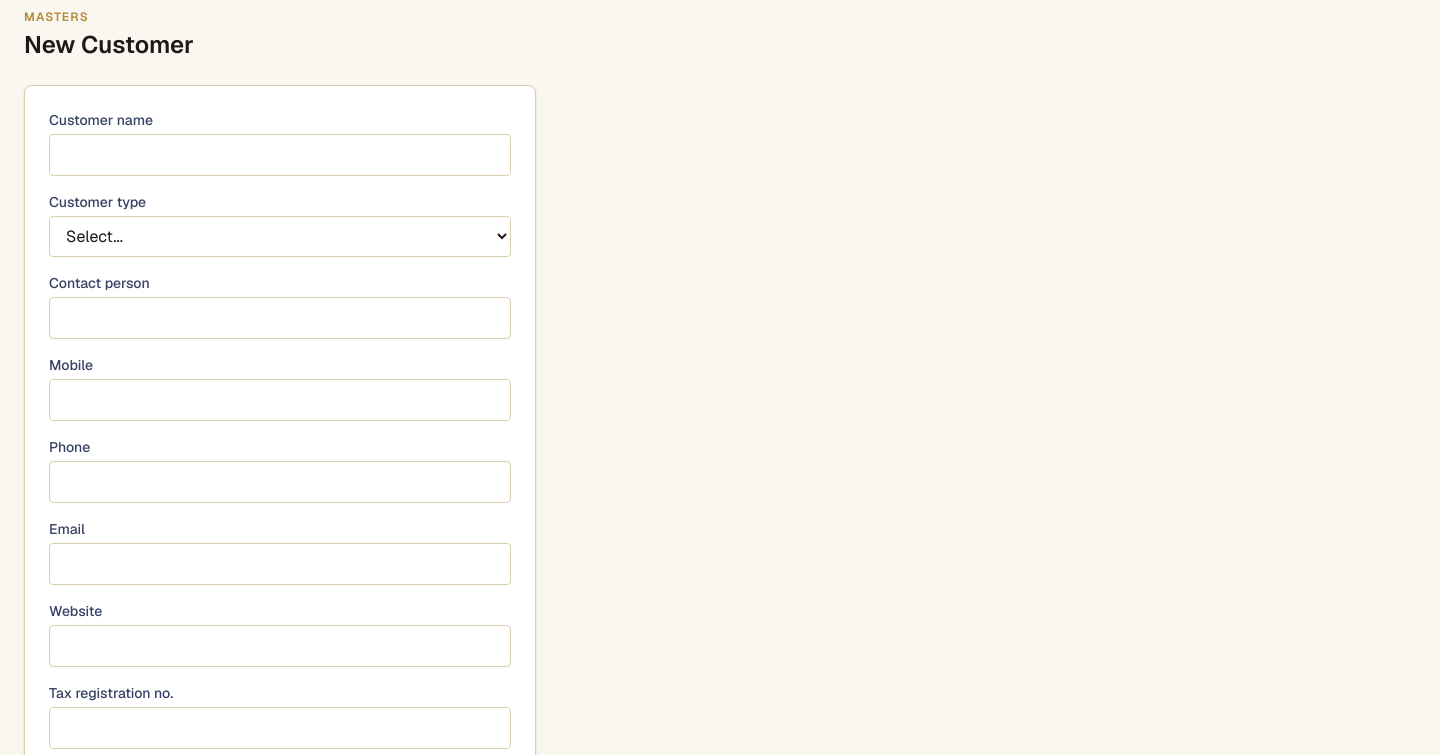
Test: Creating a customer through the dedicated New Customer page › shows an error and does not navigate when the create request fails
Type "Acme Co" into the field labelled "Customer name" at (280, 155), box [49,134,511,176]
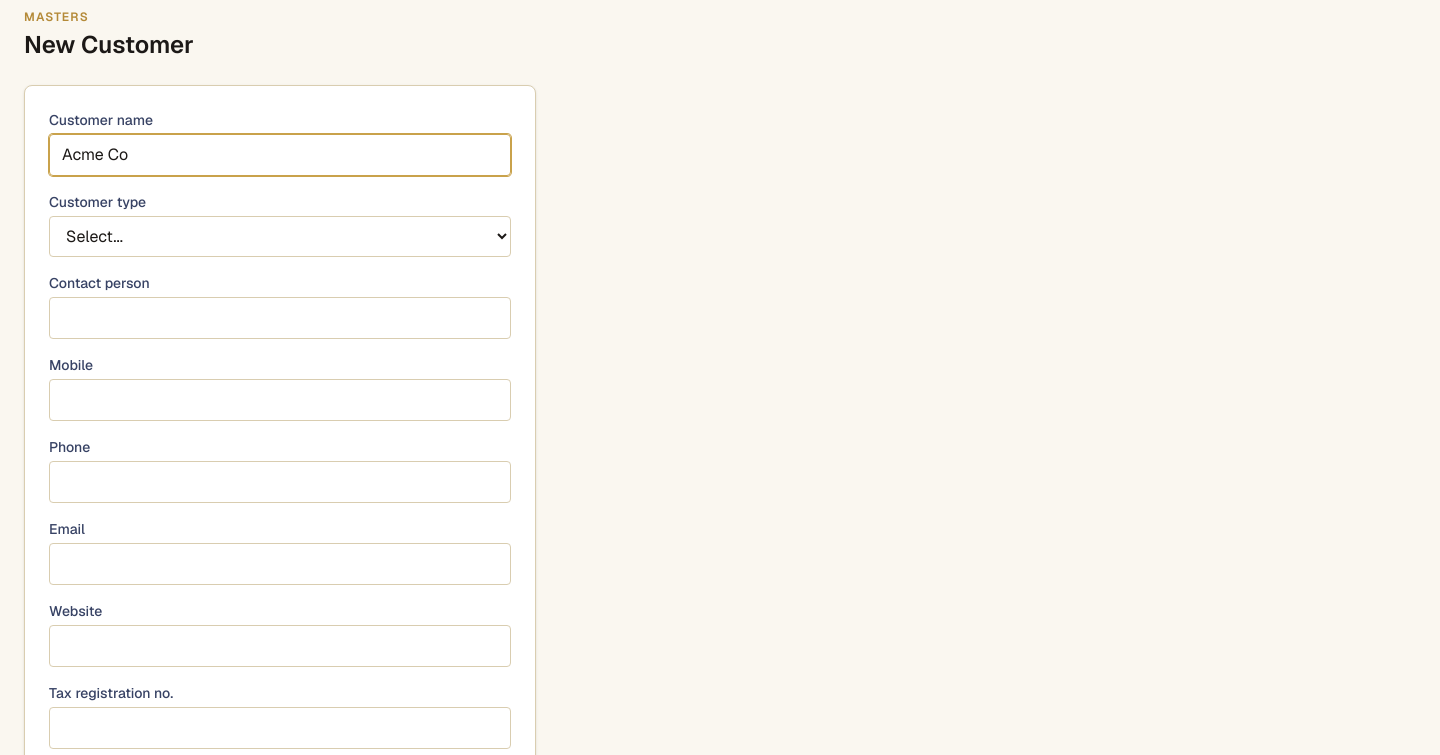
Select "Company" in the dropdown labelled "Customer type" at (280, 236), box [49,216,511,257]
(page scrolled)
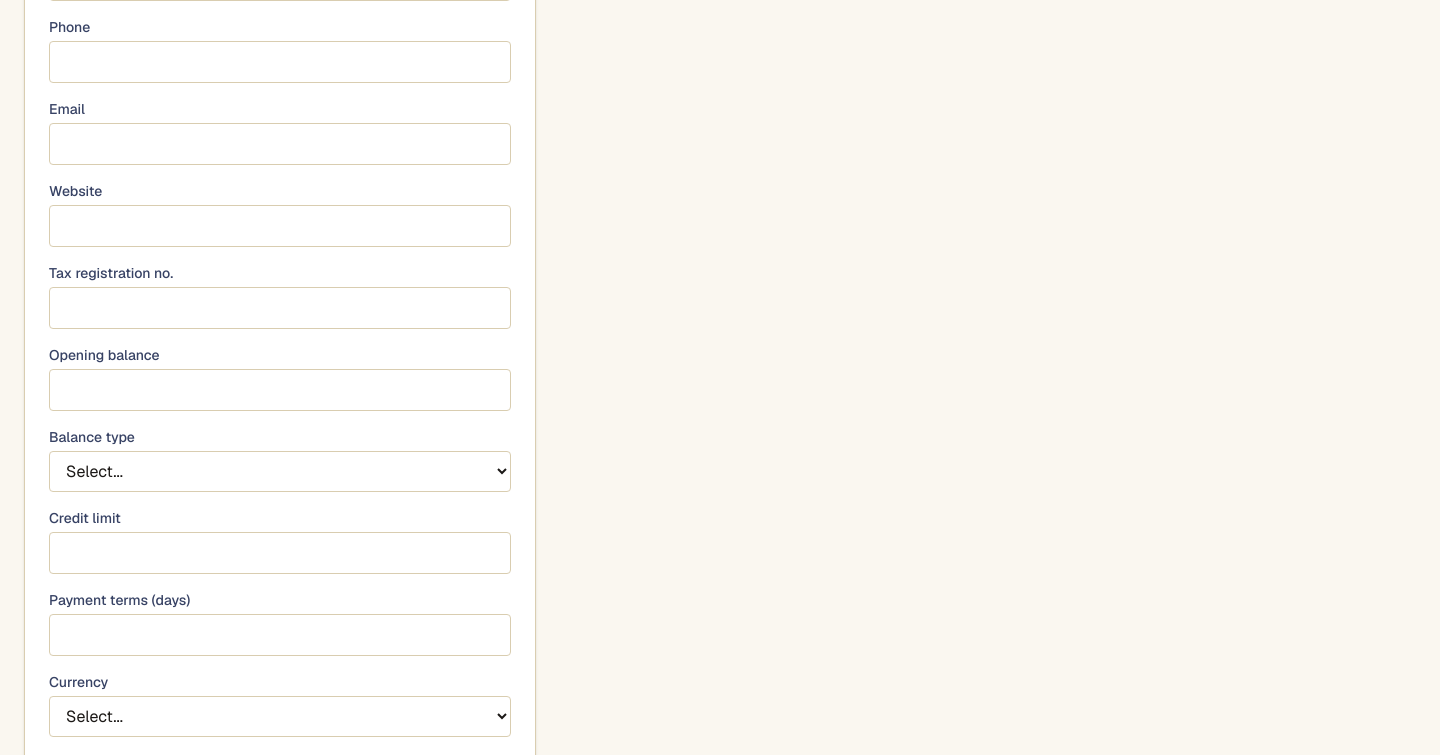
Type "100.00" into the field labelled "Opening balance" at (280, 390), box [49,369,511,411]
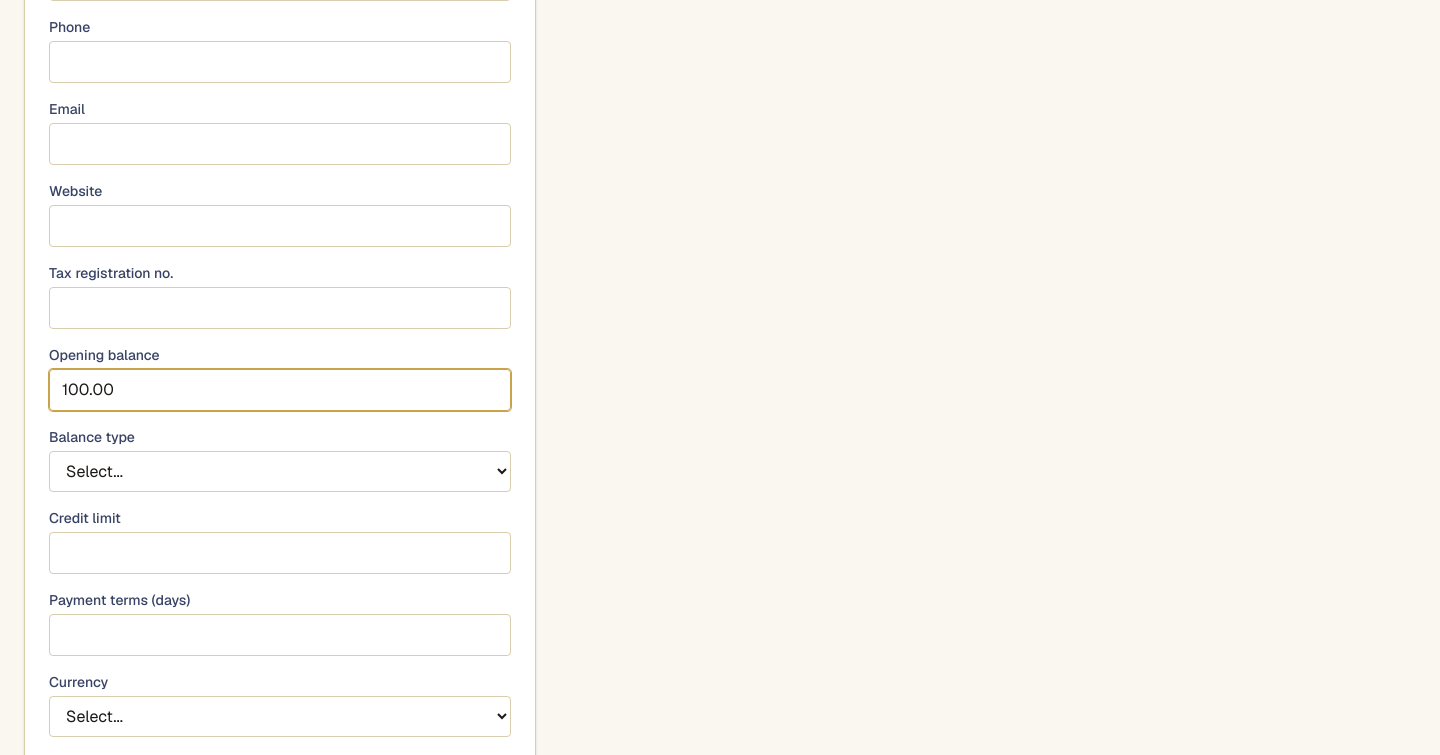
Select "Debit" in the dropdown labelled "Balance type" at (280, 472), box [49,451,511,492]
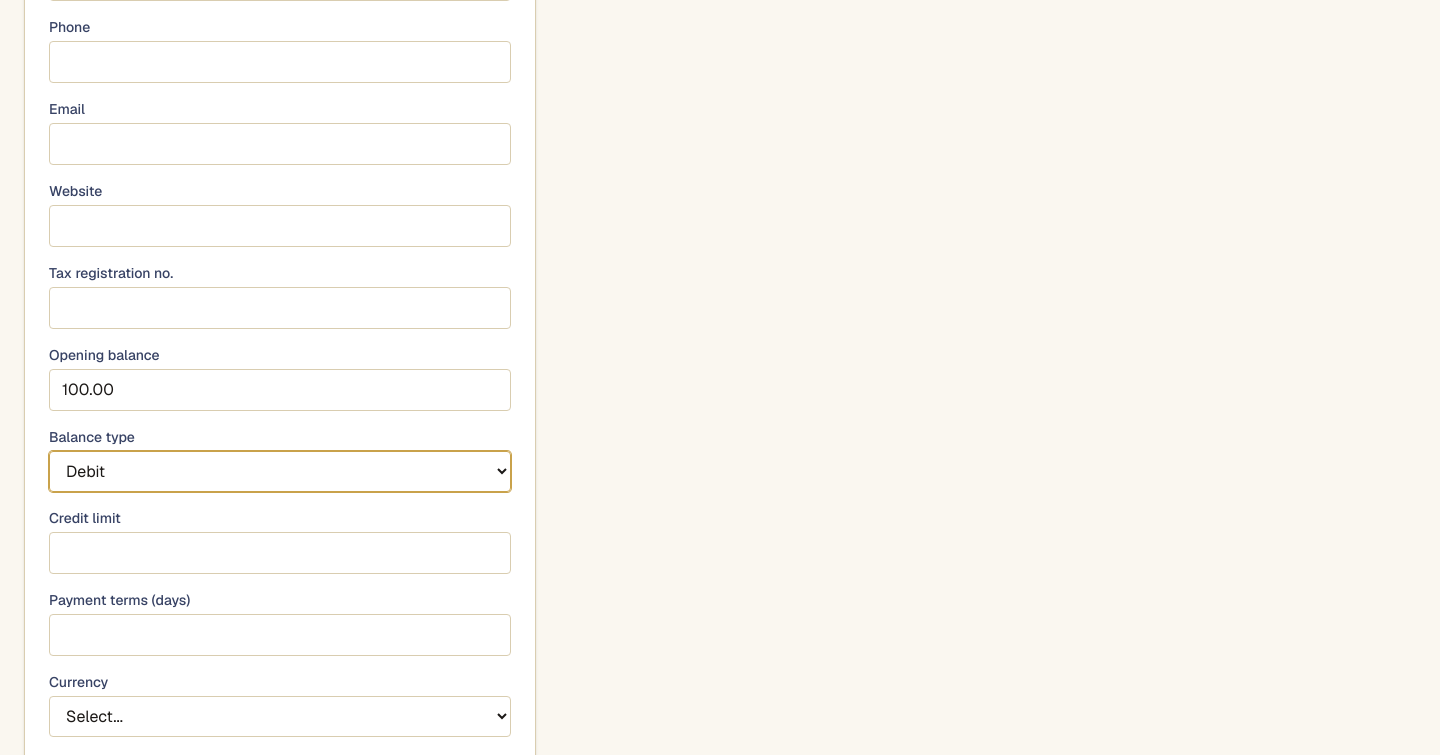
Select "AED" in the dropdown labelled "Currency" at (280, 716), box [49,696,511,737]
(page scrolled)
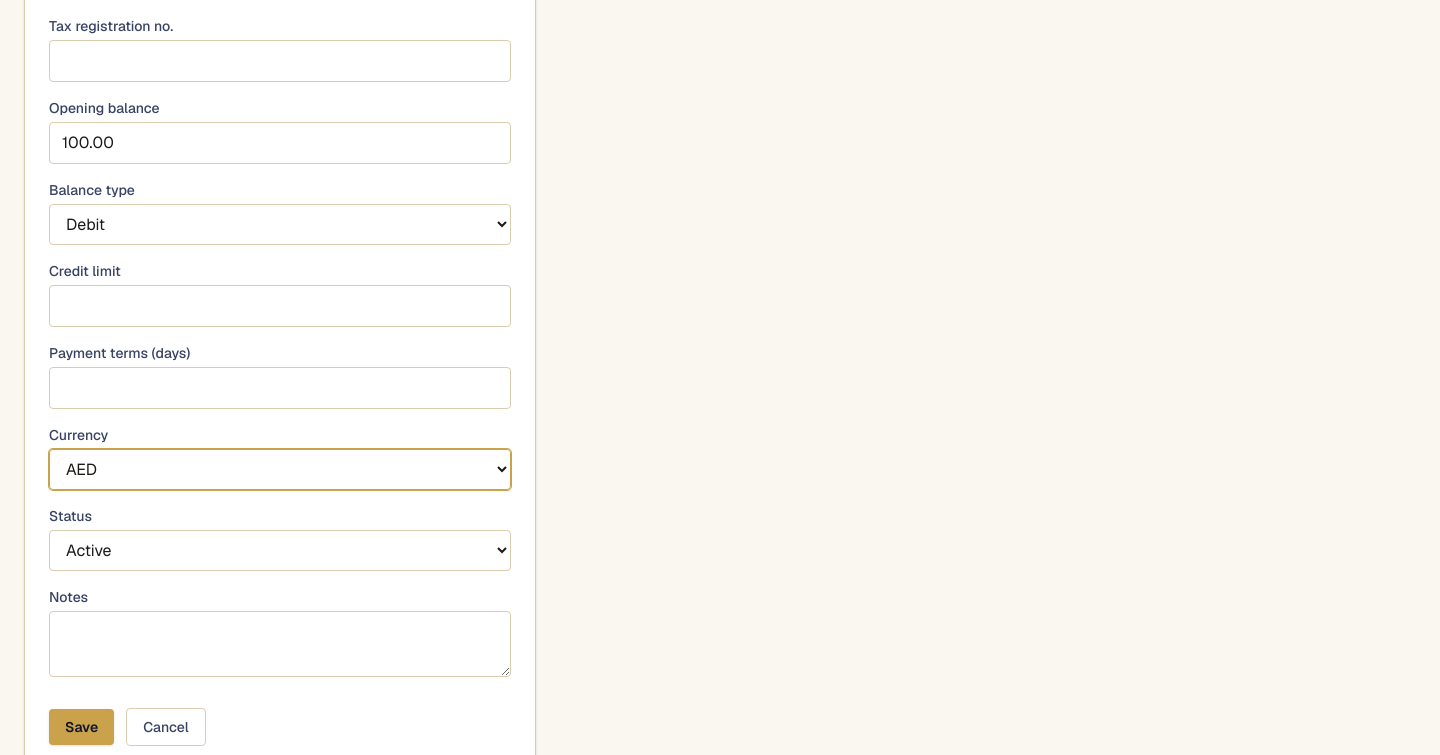
Click the button "Save" at (82, 727), box [49,709,114,745]
(page scrolled)
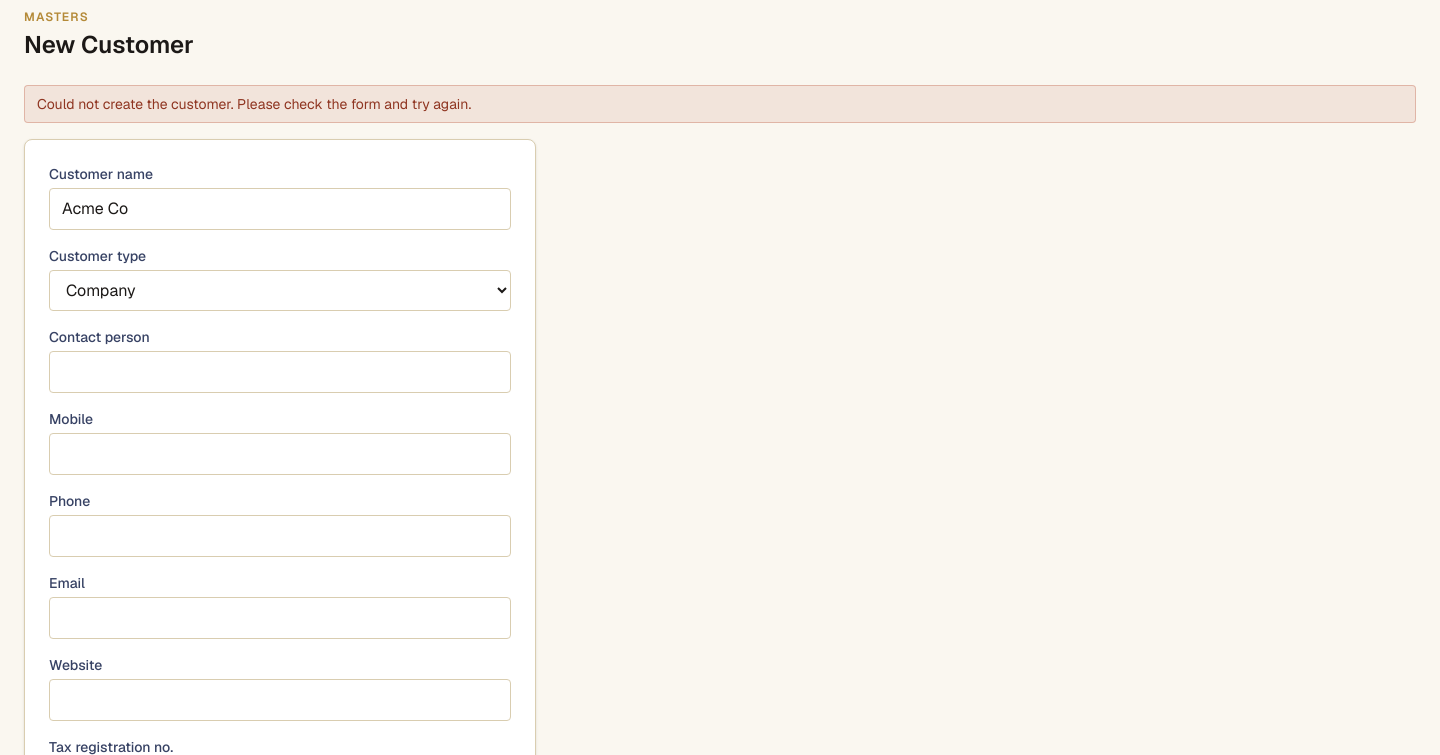
Result: the text "Could not create the customer" is shown at [37,95,471,113]
